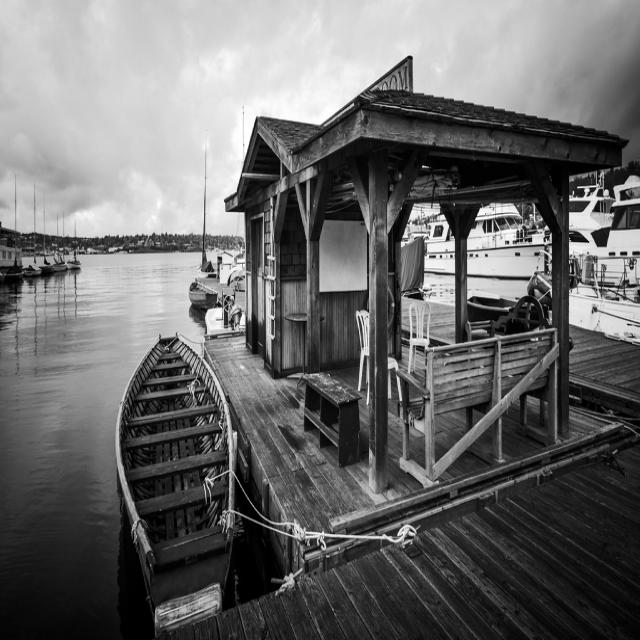Boat: (117, 322, 304, 611), (189, 137, 222, 313)
